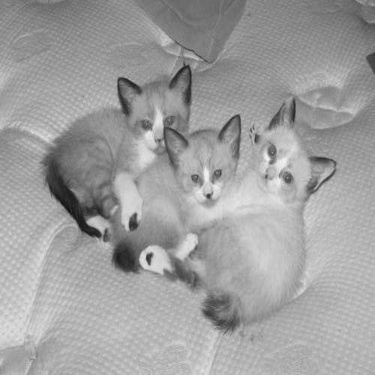cat: (191, 93, 336, 333), (41, 66, 190, 246), (113, 113, 239, 281)
